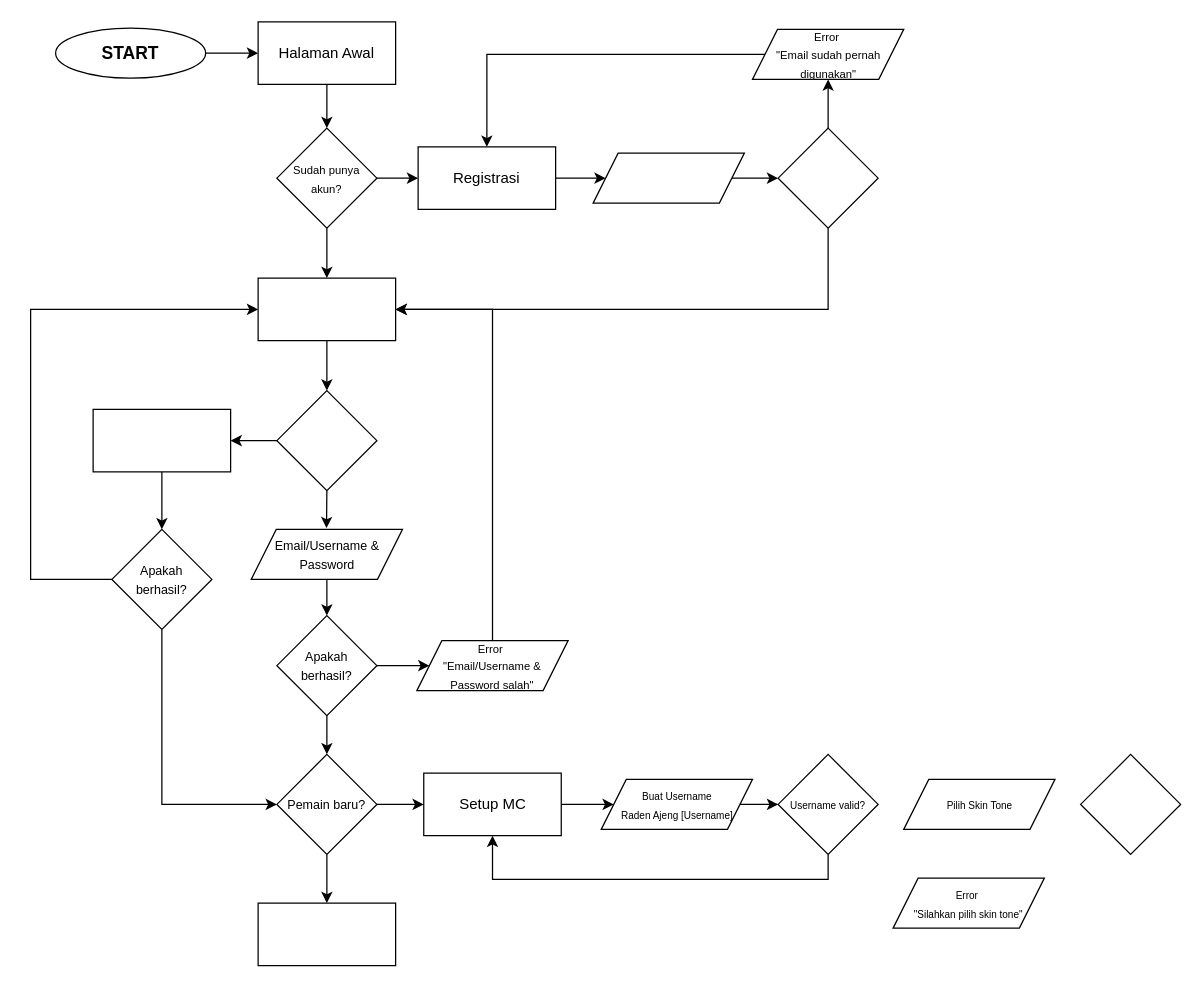
The diagram is 1203 pixels wide and 988 high, and some of its shapes have lost their labels. The centre of each missing label's shape, as x and y in pixels:
"Beranda" goes at [326,934].
"Email duplikat?" goes at [827,177].
"Email, Password, Konfirm Password" goes at [668,177].
"Fair/Medium/Tan dipilih?" goes at [1130,803].
"Login" goes at [326,309].
"Login lewat Google?" goes at [326,440].
"Sinkronisasi akun google" goes at [161,440].
